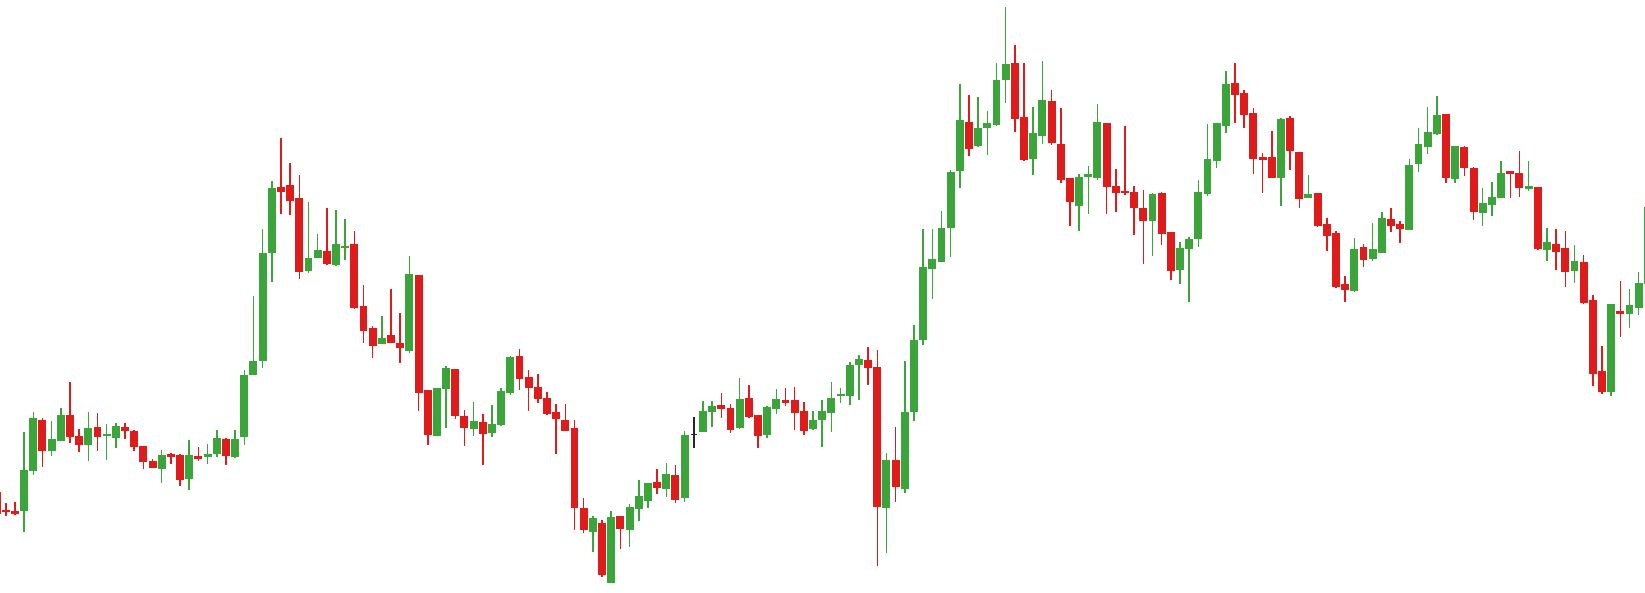buy: (807, 364, 910, 570)
sell: (1093, 56, 1249, 181), (439, 339, 526, 421)
